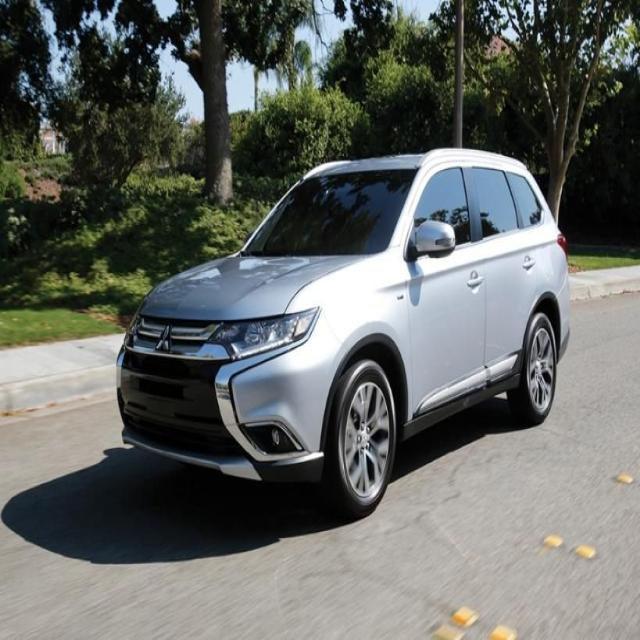light_vehicle: (115, 146, 572, 517)
